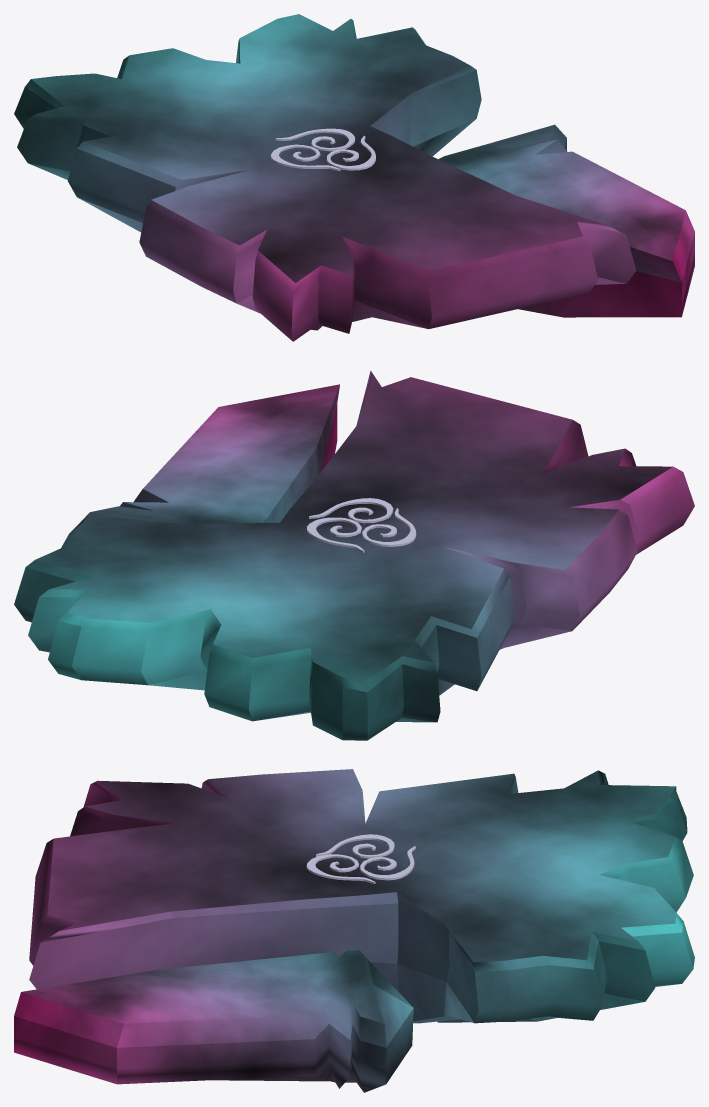
File: envPlat1Broken.fbx
3 renders of one model, top to bottom at view 1: azimuth 30°, elevation 25°; view 2: azimuth 150°, elevation 25°; view 3: azimuth 270°, elevation 25°, orthographic. The views are drawn at different scales.
Visible parts, largest first — view 1: envPlat1BrokenMain, envPlat1BrokenChild, runeSwirl1, runeSwirl0, runeSwirl2; view 2: envPlat1BrokenMain, envPlat1BrokenChild, runeSwirl2, runeSwirl0, runeSwirl1; view 3: envPlat1BrokenMain, envPlat1BrokenChild, runeSwirl2, runeSwirl1, runeSwirl0.
Part boxes in pixels (bbox=[...]): envPlat1BrokenMain: bbox=[14, 14, 636, 341]; envPlat1BrokenChild: bbox=[438, 124, 694, 317]; runeSwirl1: bbox=[271, 144, 340, 170]; runeSwirl0: bbox=[275, 128, 355, 151]; runeSwirl2: bbox=[326, 135, 375, 170]; envPlat1BrokenMain: bbox=[14, 371, 694, 740]; envPlat1BrokenChild: bbox=[81, 384, 339, 523]; runeSwirl2: bbox=[309, 498, 393, 523]; runeSwirl0: bbox=[307, 517, 364, 552]; runeSwirl1: bbox=[362, 508, 416, 546]; envPlat1BrokenMain: bbox=[29, 769, 694, 1023]; envPlat1BrokenChild: bbox=[14, 950, 413, 1092]; runeSwirl2: bbox=[306, 854, 375, 883]; runeSwirl1: bbox=[316, 834, 394, 858]; runeSwirl0: bbox=[360, 846, 415, 880].
Bounding box in the file's own units: 2.39 × 0.8409 × 3.02.
